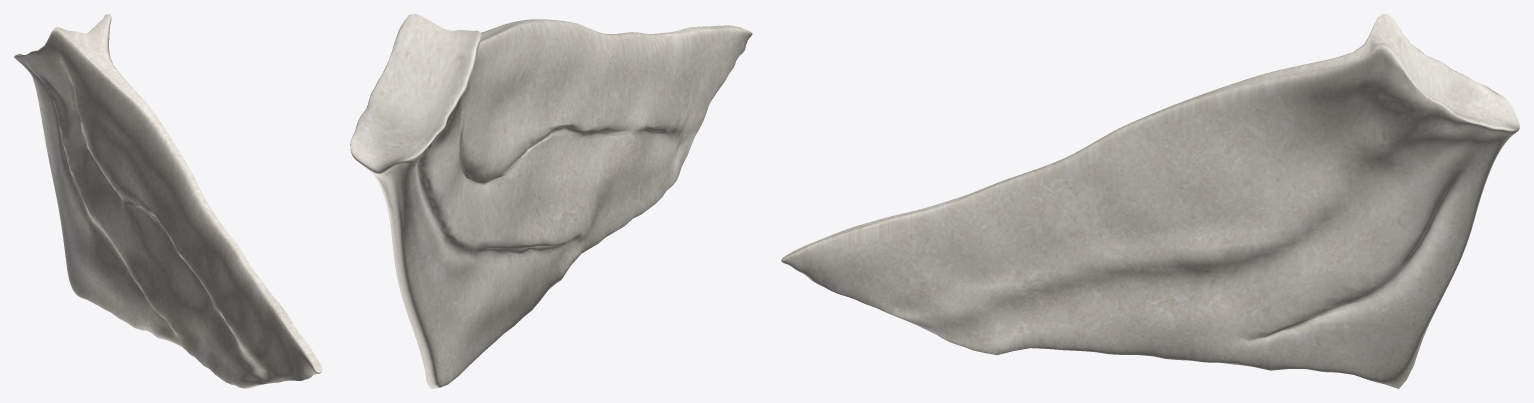
Rendered from vomer_bone__hueso_vomer.glb.
3 renders of one model, left to right at view 1: azimuth 30°, elevation 25°; view 2: azimuth 150°, elevation 25°; view 3: azimuth 270°, elevation 25°, orthographic. The views are drawn at different scales.
Parts seen in each view (by area): view 1: Object_2; view 2: Object_2; view 3: Object_2.
Part boxes in pixels (<box>): Object_2: <box>14,14,321,388</box>; Object_2: <box>350,14,752,388</box>; Object_2: <box>781,14,1519,388</box>.
Bounding box in the file's own units: 0.6934 × 2.9 × 5.44.
1 material, 1 textured.
